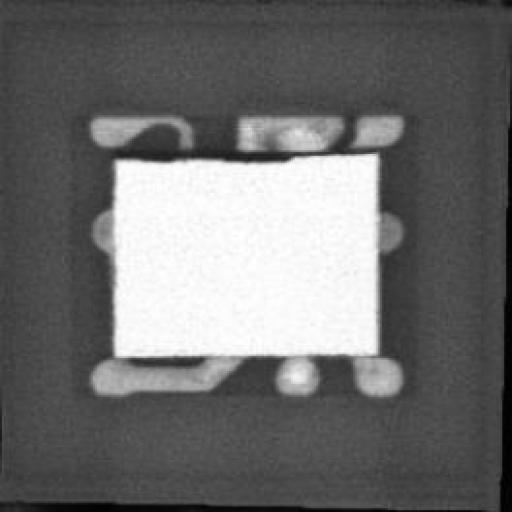DIE_BROKEN: (106, 143, 300, 161)
